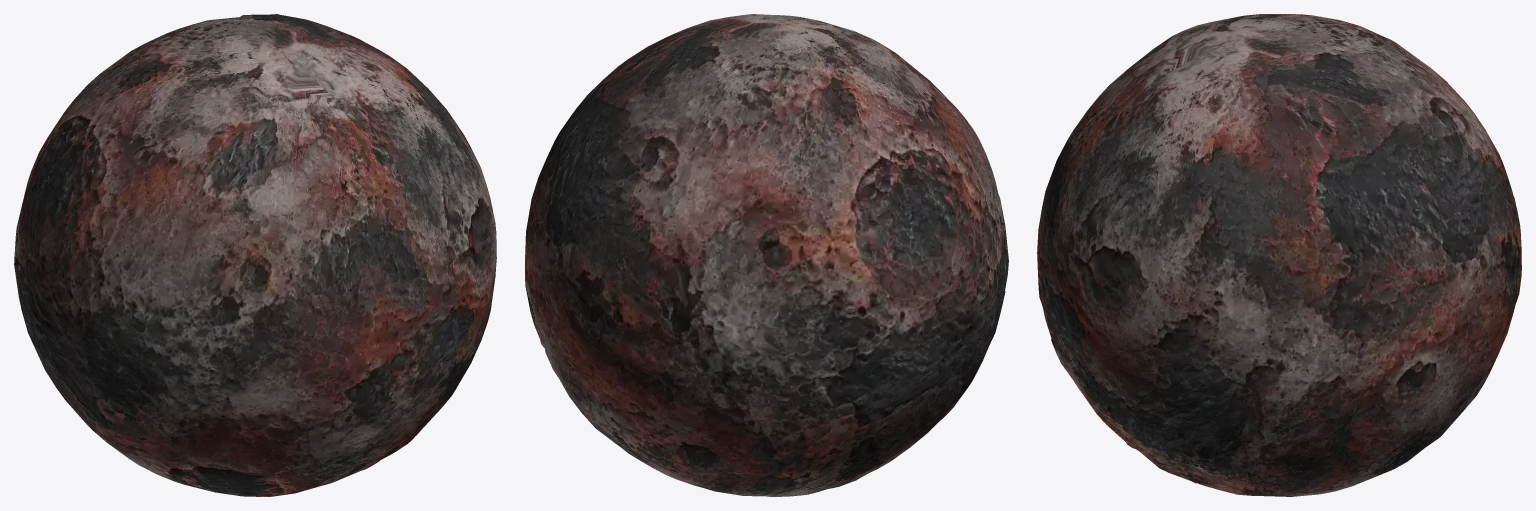
File: planet_12.glb
3 views of the same model, side by side, from view 1: azimuth 30°, elevation 25°; view 2: azimuth 150°, elevation 25°; view 3: azimuth 270°, elevation 25° (orthographic).
Parts seen in each view (by area): view 1: Mesh_0.001; view 2: Mesh_0.001; view 3: Mesh_0.001.
Part boxes in pixels (bbox=[...]): Mesh_0.001: bbox=[14, 14, 496, 496]; Mesh_0.001: bbox=[525, 14, 1008, 496]; Mesh_0.001: bbox=[1037, 14, 1521, 496].
Bounding box in the file's own units: 1.9 × 1.9 × 1.9.
1 material, 1 textured.
